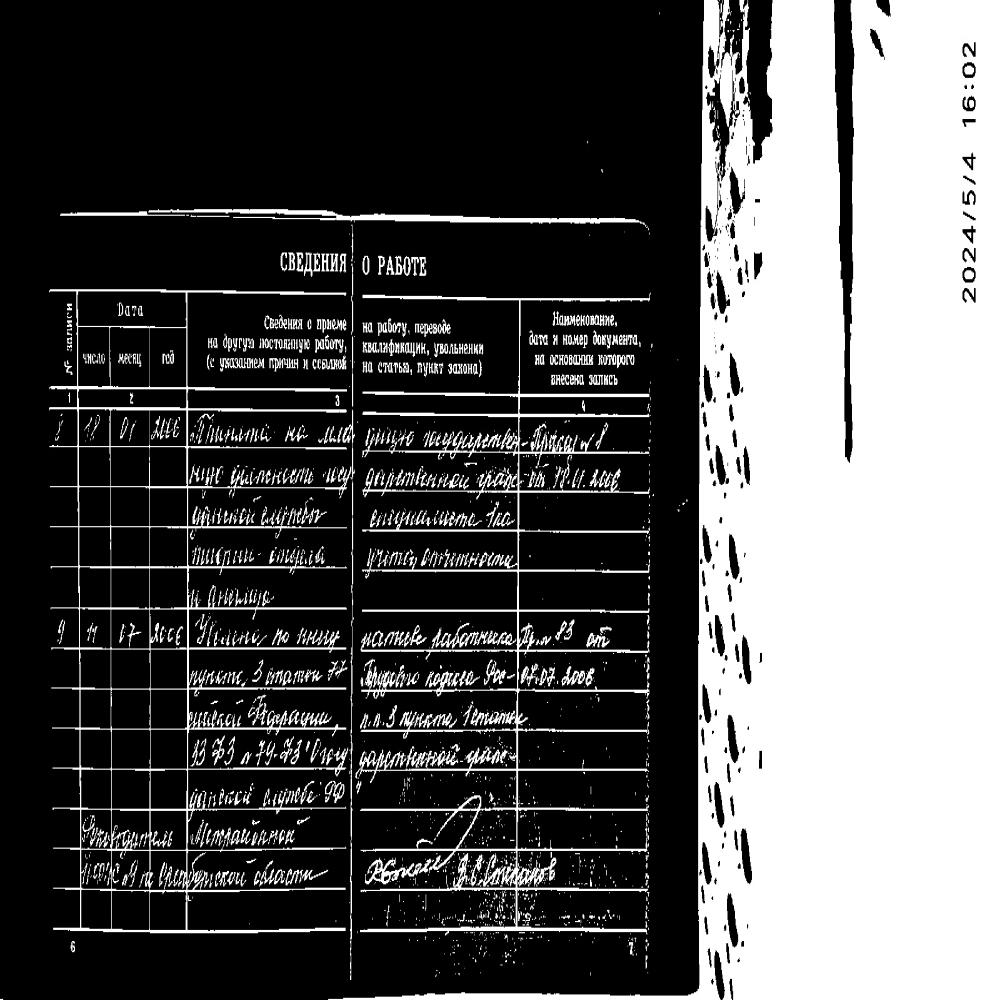rus: (271, 232, 427, 278), (521, 611, 620, 652), (189, 811, 300, 847), (56, 412, 184, 442), (50, 621, 190, 648), (82, 810, 177, 849), (148, 855, 247, 891), (189, 570, 277, 610), (364, 458, 468, 489), (422, 427, 520, 458), (188, 410, 274, 444), (370, 505, 482, 531), (248, 696, 333, 729), (358, 744, 460, 769), (421, 540, 515, 566), (229, 460, 315, 485), (86, 854, 141, 889), (196, 617, 262, 646), (520, 661, 595, 686), (430, 626, 515, 648), (361, 661, 422, 690), (191, 538, 254, 564), (550, 464, 618, 488), (243, 738, 303, 765), (264, 778, 316, 808), (266, 541, 328, 566), (252, 861, 322, 883), (188, 783, 254, 806), (361, 624, 424, 648), (464, 702, 528, 725), (527, 422, 576, 452), (365, 542, 417, 570), (308, 735, 349, 770), (264, 664, 321, 688), (363, 424, 415, 450), (521, 620, 575, 645), (424, 664, 477, 689), (190, 739, 237, 767), (402, 705, 452, 731), (259, 504, 322, 524), (192, 505, 256, 524), (186, 706, 243, 727), (190, 663, 244, 685), (465, 744, 517, 766), (475, 464, 518, 490), (358, 700, 397, 728), (552, 310, 615, 327), (362, 341, 426, 357), (579, 421, 611, 452), (434, 342, 486, 360), (322, 457, 354, 486), (318, 421, 355, 446), (191, 458, 224, 485), (297, 626, 340, 646), (65, 298, 75, 382), (482, 657, 512, 685), (257, 336, 310, 351), (324, 774, 350, 804), (262, 314, 303, 333), (592, 330, 639, 346), (523, 462, 545, 494), (120, 345, 146, 371), (486, 502, 511, 528), (116, 300, 152, 318), (220, 356, 264, 369), (550, 371, 583, 388), (413, 324, 452, 338), (549, 353, 594, 365), (596, 353, 634, 367), (326, 659, 349, 682), (222, 334, 253, 350), (269, 354, 299, 370), (377, 362, 411, 376), (313, 355, 346, 369), (314, 337, 344, 352), (378, 322, 410, 336), (448, 362, 479, 376), (562, 333, 592, 347), (284, 423, 306, 442), (316, 318, 348, 331), (526, 328, 549, 346), (586, 372, 619, 384), (417, 363, 444, 377), (272, 626, 290, 647), (81, 353, 110, 366), (249, 656, 263, 682), (163, 352, 176, 368), (533, 352, 545, 368), (362, 321, 374, 336), (206, 335, 218, 349), (362, 360, 373, 375), (302, 355, 310, 372), (206, 356, 216, 368), (305, 319, 314, 330), (553, 332, 558, 345)
